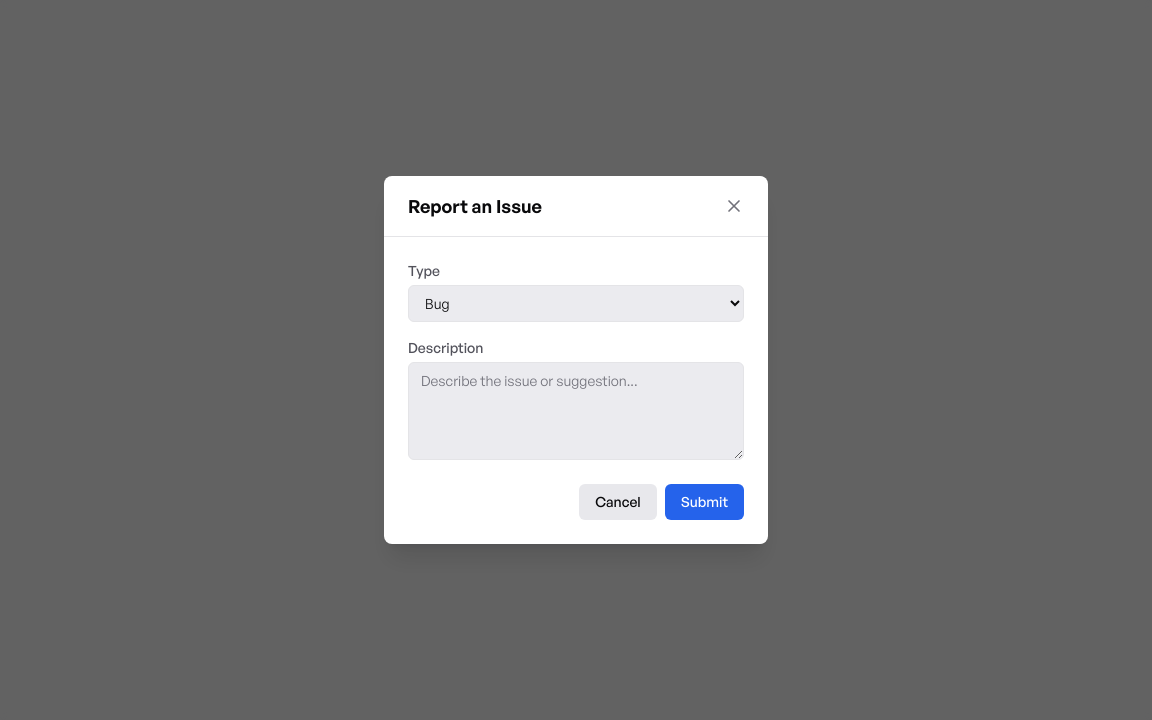
ReportIssueModal › shows error when submitting empty description
Click the button "Submit".
click(704, 502)  # box [665,484,744,520]
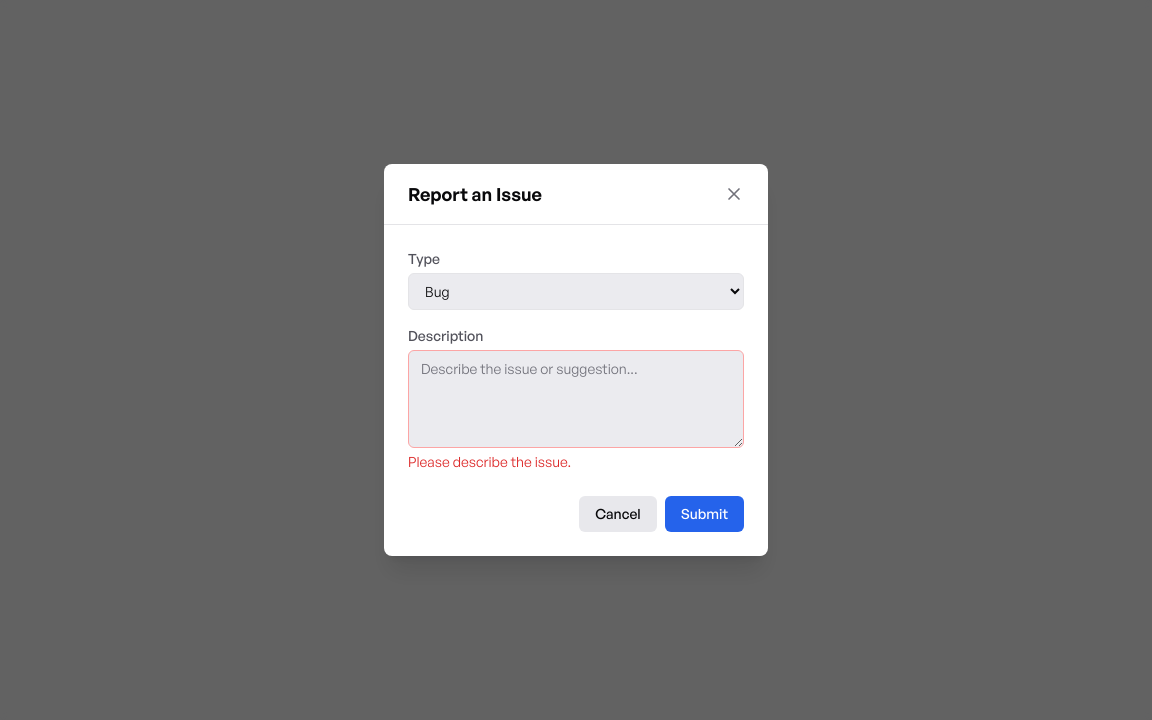
Check: the text "Please describe the issue." is shown, box [408,453,571,470]
